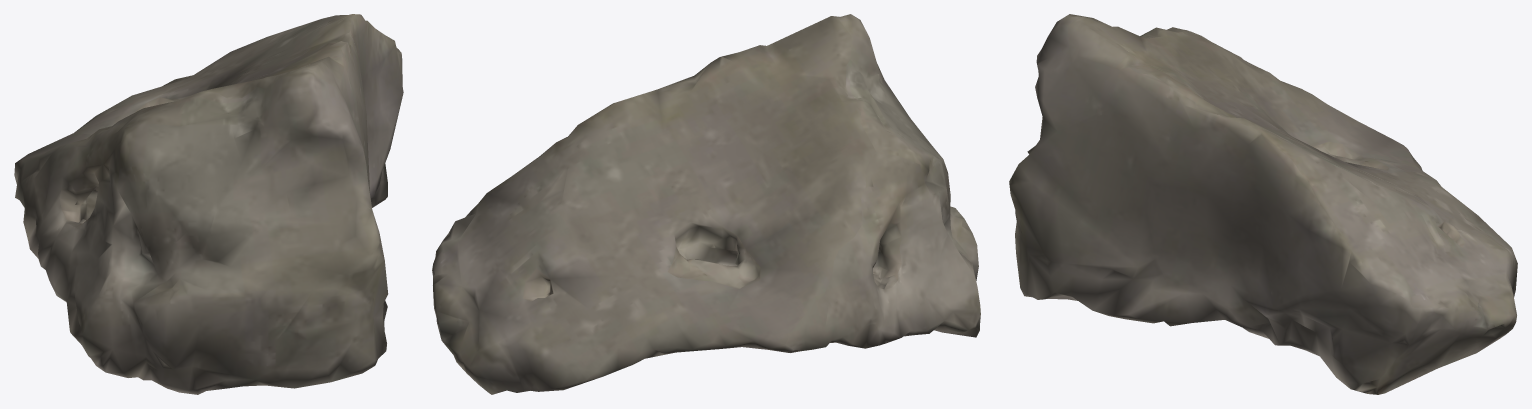
Rendered from moon_rock_06.glb.
3 renders of one model, left to right at view 1: azimuth 30°, elevation 25°; view 2: azimuth 150°, elevation 25°; view 3: azimuth 270°, elevation 25°, orthographic. The views are drawn at different scales.
Parts seen in each view (by area): view 1: moon_rock_06_LOD0; view 2: moon_rock_06_LOD0; view 3: moon_rock_06_LOD0.
Boxes of the visible parts, <box> form: moon_rock_06_LOD0: <box>14,14,403,394</box>; moon_rock_06_LOD0: <box>432,14,980,394</box>; moon_rock_06_LOD0: <box>1009,14,1517,394</box>.
Size of the model in its own units: 0.0857 by 0.055 by 0.0918.
1 material, 1 textured.
